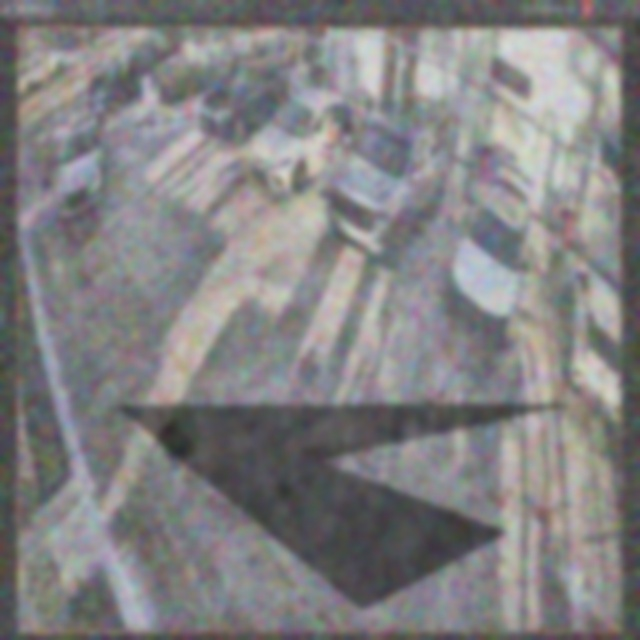Car: (327, 97, 451, 267), (446, 164, 534, 343), (250, 91, 362, 190)
